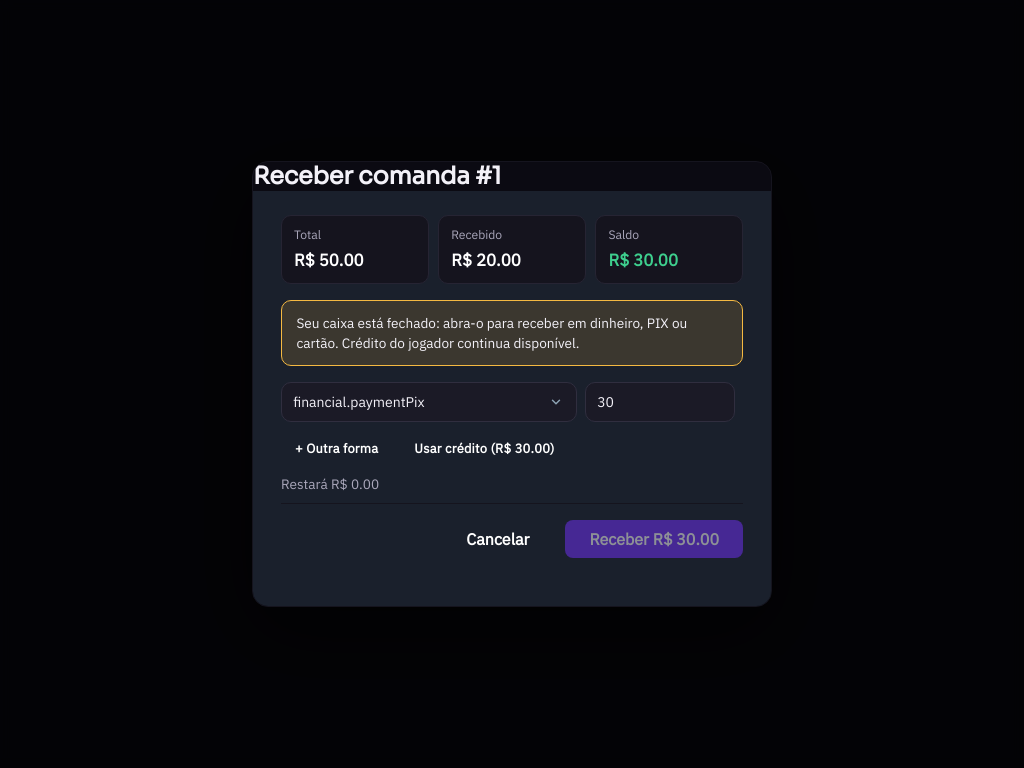
Test: gaveta fechada trava dinheiro mas não crédito
Check: the text "Seu caixa está fechado" is shown, box [296,314,687,352]
Check: the button "Receber R$ 30.00" is disabled, box [565,520,743,558]
// Zera a perna de dinheiro e usa só crédito.
Replace the text in the number field named "Valor" with "0". click: (660, 402)
box: [585,382,735,422]
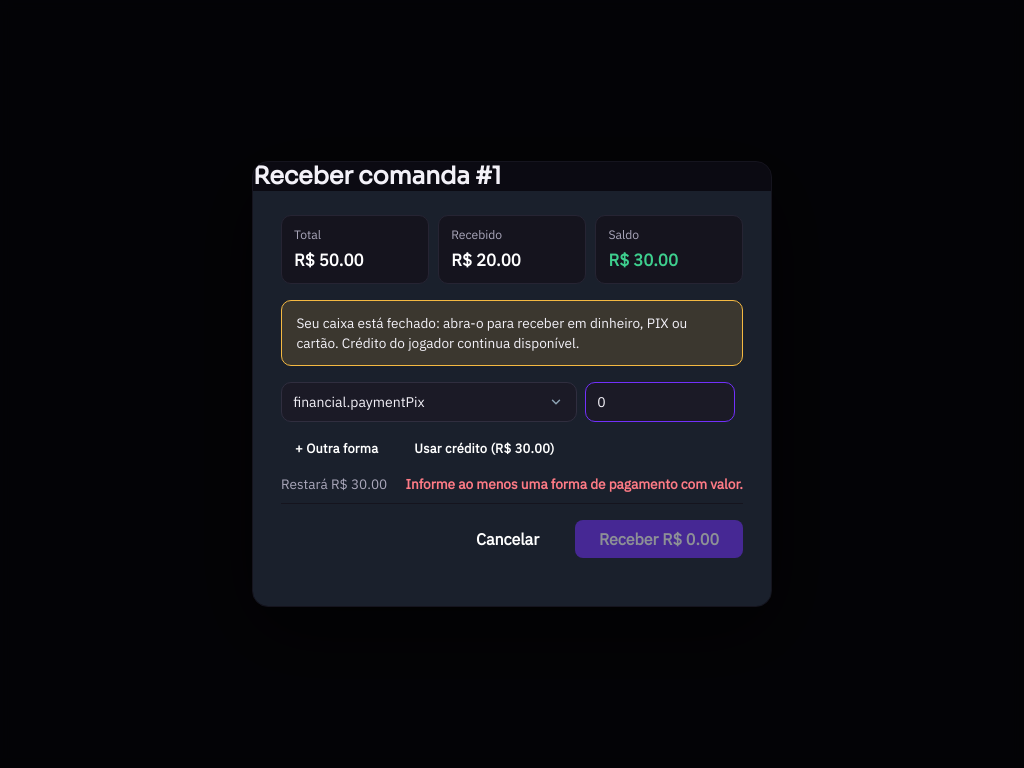
Click the button "Usar crédito (R$ 30.00)". click: (484, 450)
box: [400,434,569,466]
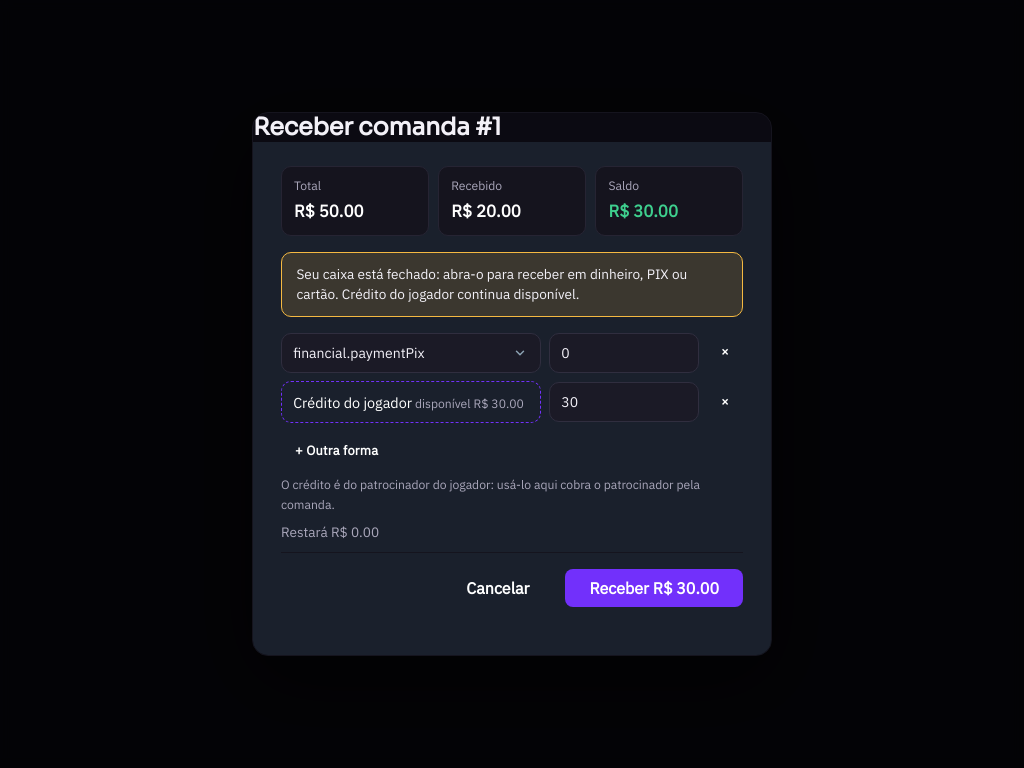
Check: the button "Receber R$ 30.00" is enabled, box [565,569,743,607]
